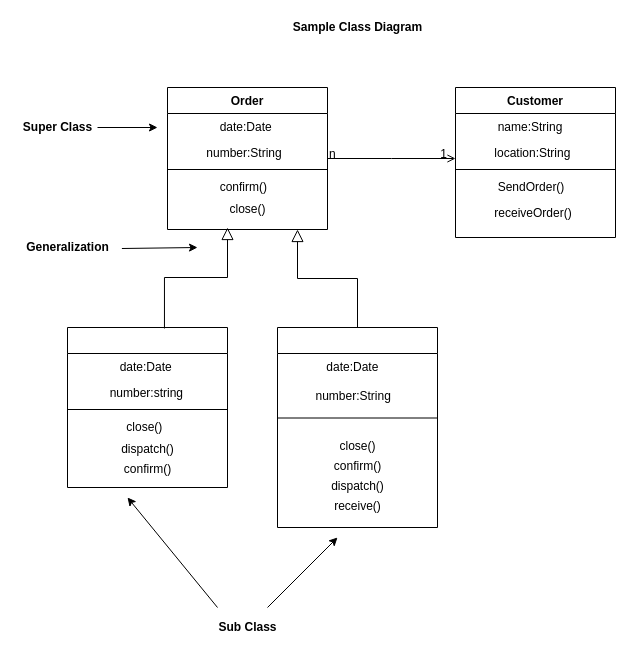
The diagram is 633 pixels wide and 654 high, and some of its shapes have lost their labels. Each missing label, with the box of its shape:
NormalOrder: (276, 326, 438, 528)
SpecialOrder: (66, 326, 228, 488)
